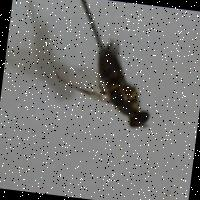Oriental-fruit-fly: (24, 19, 169, 144)
